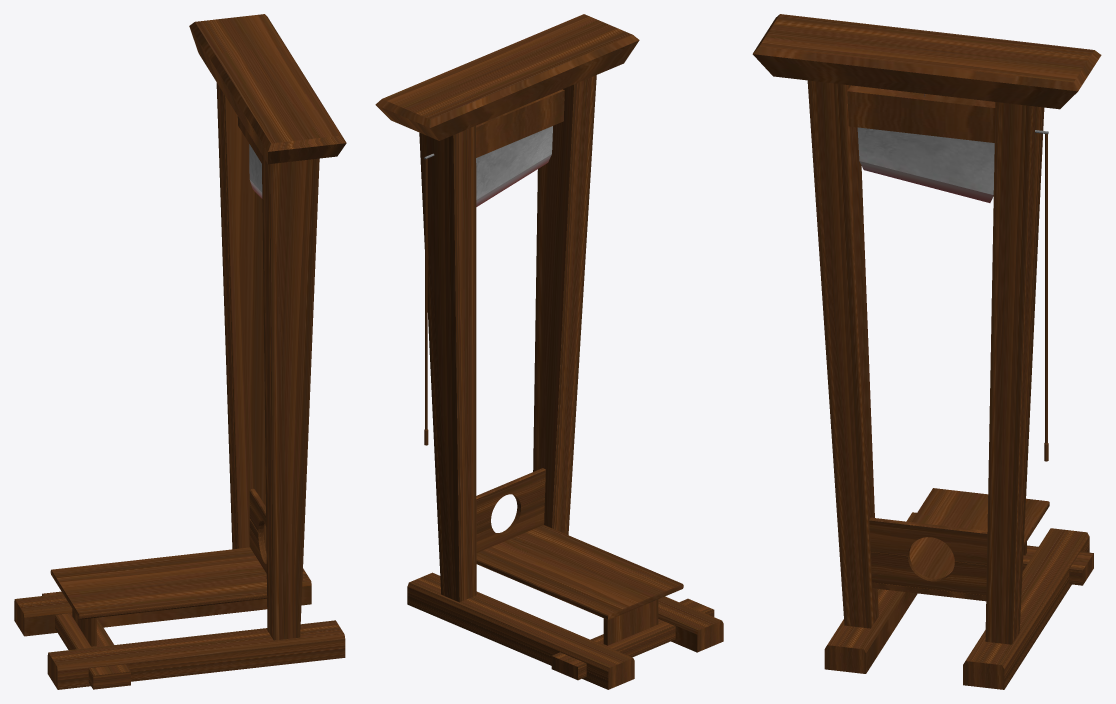
Rendered from Guillotine.glb.
3 renders of one model, left to right at view 1: azimuth 30°, elevation 25°; view 2: azimuth 150°, elevation 25°; view 3: azimuth 270°, elevation 25°, orthographic. The views are drawn at different scales.
Visible parts, largest first — view 1: Guillotine; view 2: Guillotine; view 3: Guillotine.
Boxes of the visible parts, x1,y1,x2,y2 form: Guillotine: (14, 14, 346, 689); Guillotine: (375, 14, 723, 689); Guillotine: (752, 14, 1101, 689).
Size of the model in its own units: 1.63 by 3 by 1.57.
Materials: 1 (1 with a texture image).
